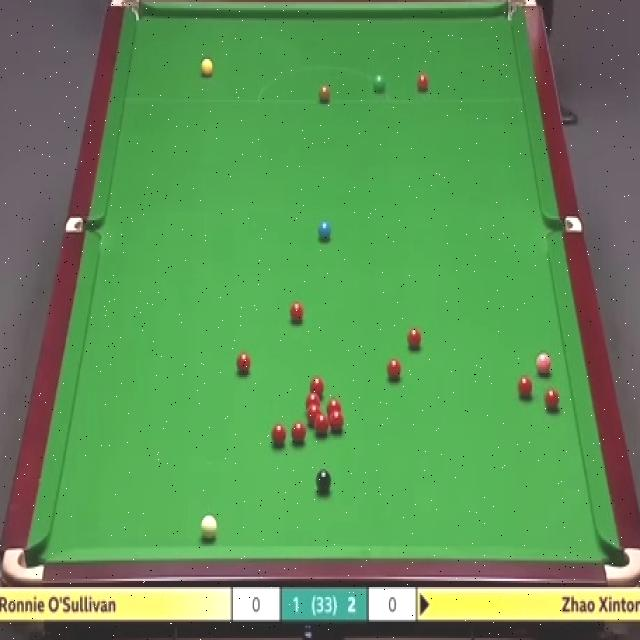black-ball: (316, 468, 332, 494)
blue-ball: (318, 220, 331, 238)
brown-ball: (318, 86, 331, 102)
green-ball: (373, 75, 386, 94)
pink-ball: (535, 352, 553, 378)
red-ball: (387, 355, 402, 383), (544, 388, 562, 411), (314, 414, 329, 439), (517, 376, 534, 398), (329, 411, 346, 432), (290, 300, 304, 324), (291, 421, 306, 443), (272, 423, 287, 445), (236, 352, 251, 373), (416, 73, 431, 94), (306, 407, 320, 426), (408, 329, 421, 349), (327, 398, 341, 416), (306, 396, 320, 413), (312, 376, 322, 398)
white-ball: (200, 512, 219, 538)
yellow-ball: (200, 57, 213, 78)
